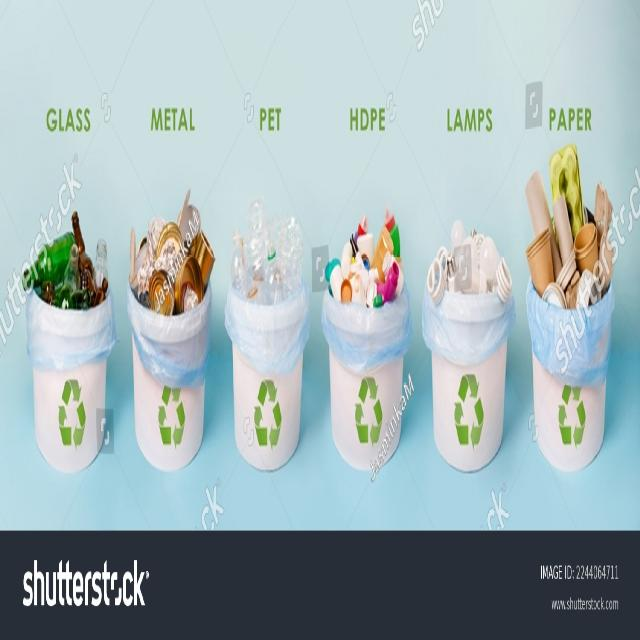cardboard: (534, 204, 604, 296)
glass: (435, 224, 500, 308), (42, 235, 96, 308)
metal: (148, 228, 202, 308)
plastic: (243, 210, 298, 299), (336, 213, 390, 302)
